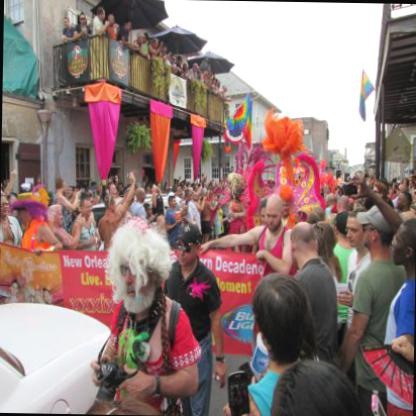car: (0, 301, 111, 414), (89, 191, 168, 254)
